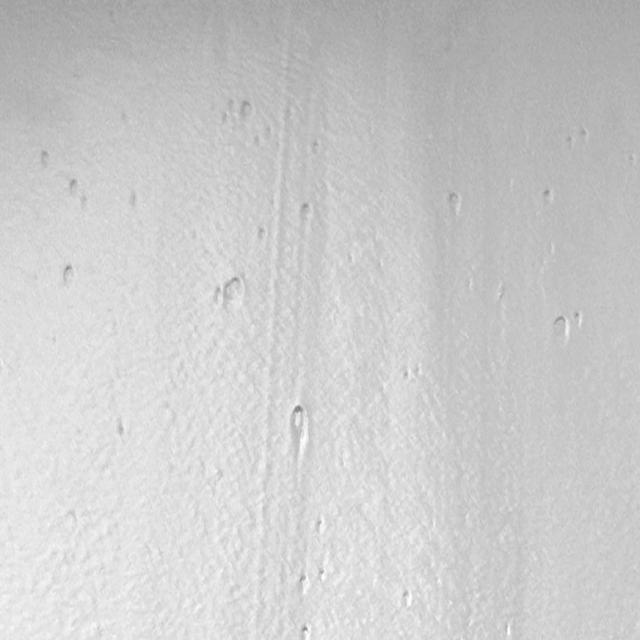pin holes: (285, 405, 310, 451), (226, 272, 245, 310), (551, 312, 572, 345), (444, 189, 466, 219), (60, 262, 80, 289), (296, 201, 315, 228), (238, 100, 257, 124), (37, 148, 56, 171), (66, 179, 84, 203), (294, 572, 311, 597), (397, 588, 415, 610), (210, 286, 226, 310), (114, 417, 127, 442), (540, 188, 556, 208), (127, 190, 141, 211), (313, 517, 327, 535), (626, 151, 638, 172), (574, 308, 586, 328), (299, 622, 313, 638), (256, 227, 270, 243), (579, 126, 591, 144), (565, 132, 577, 150), (309, 138, 321, 155), (316, 570, 328, 586)
